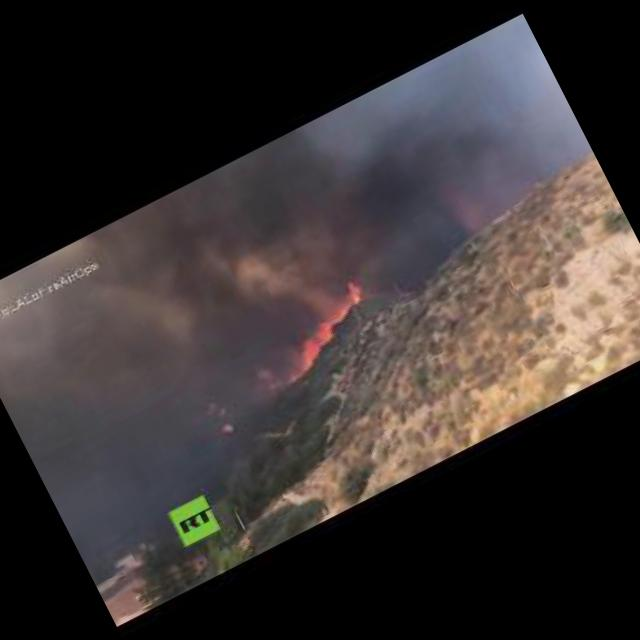fire: (266, 283, 384, 382), (221, 422, 236, 436)
